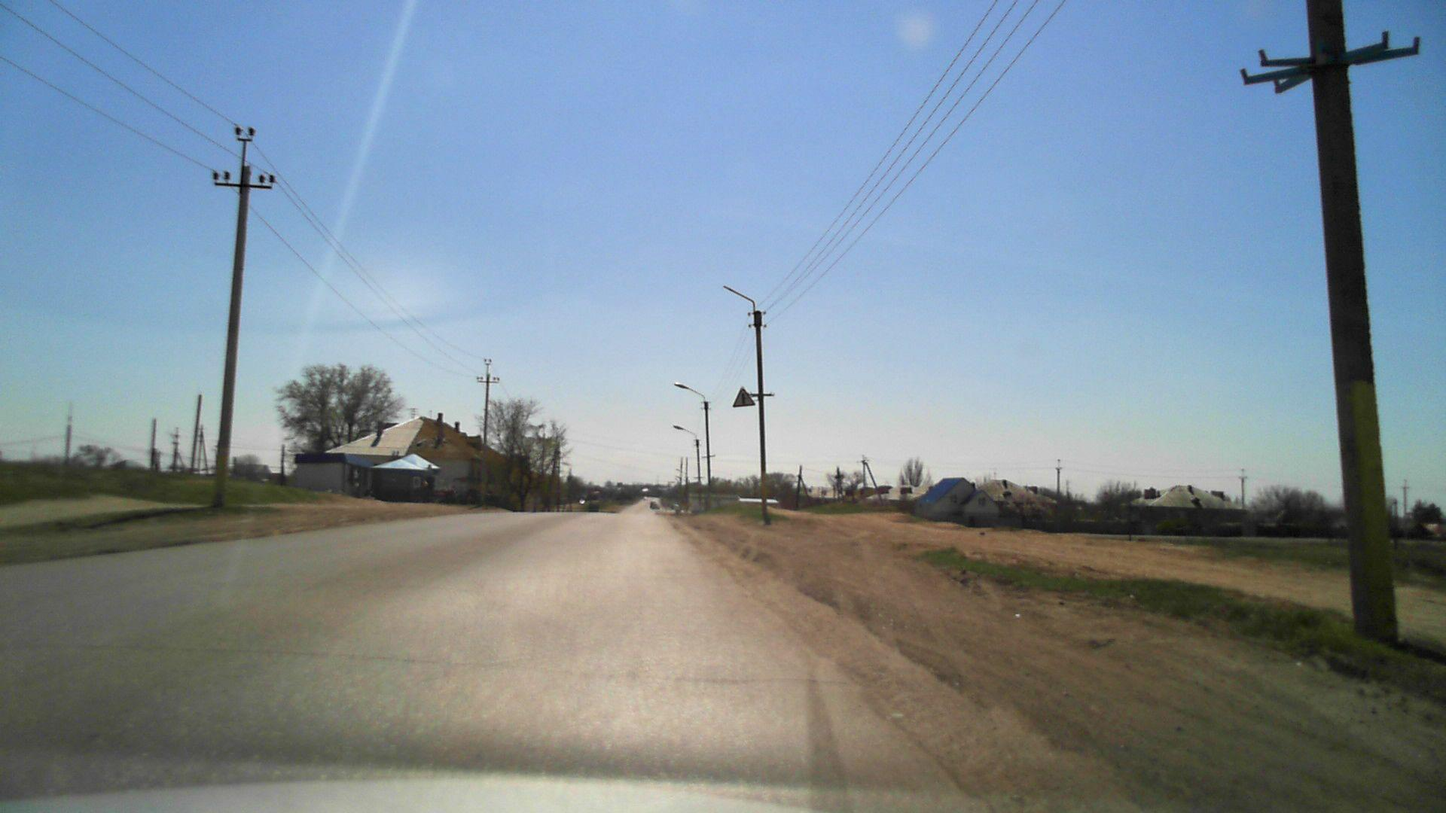road_sign: (731, 386, 758, 408)
